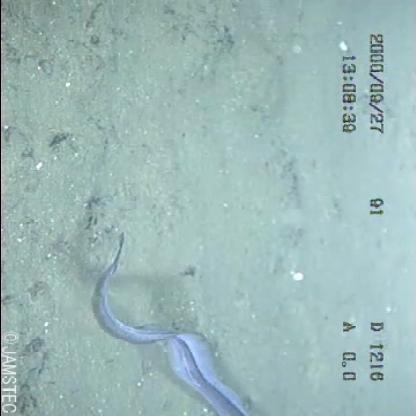Bio: (88, 232, 258, 416)
